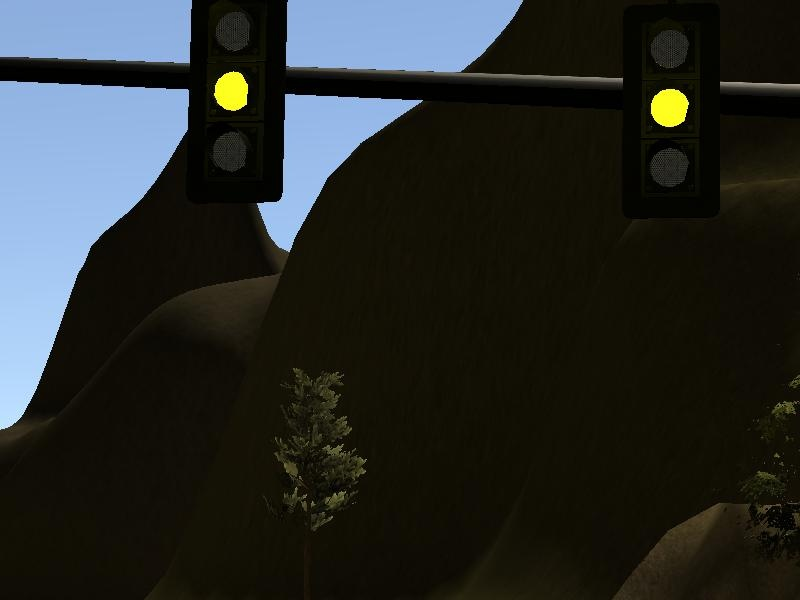yellow: (612, 2, 730, 229), (181, 1, 292, 210)
